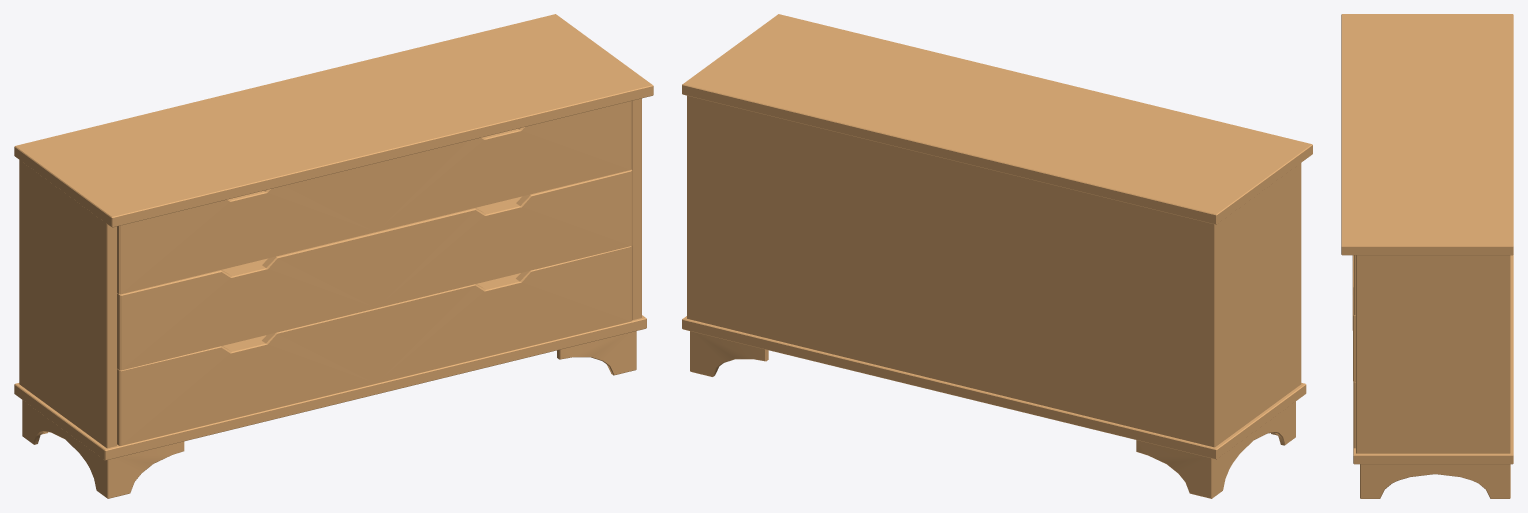
The model's file is dfk_drawers_02_a.fbx.
The picture shows the model from 3 angles, left to right: view 1: azimuth 30°, elevation 25°; view 2: azimuth 150°, elevation 25°; view 3: azimuth 270°, elevation 25°; orthographic projection. The views are drawn at different scales.
Parts seen in each view (by area): view 1: Drawer_small.004, Drawers02.006, Drawers02.008, Drawers02.007; view 2: Drawer_small.004; view 3: Drawer_small.004, Drawers02.006.
Boxes of the visible parts, x1=… form: Drawer_small.004: x1=14, y1=14, x2=653, y2=498; Drawers02.006: x1=117, y1=169, x2=632, y2=370; Drawers02.008: x1=117, y1=246, x2=631, y2=445; Drawers02.007: x1=117, y1=101, x2=631, y2=294; Drawer_small.004: x1=682, y1=14, x2=1312, y2=498; Drawer_small.004: x1=1341, y1=14, x2=1513, y2=498; Drawers02.006: x1=1352, y1=255, x2=1355, y2=381.
Size of the model in its own units: 1.6 by 0.8205 by 0.5.
